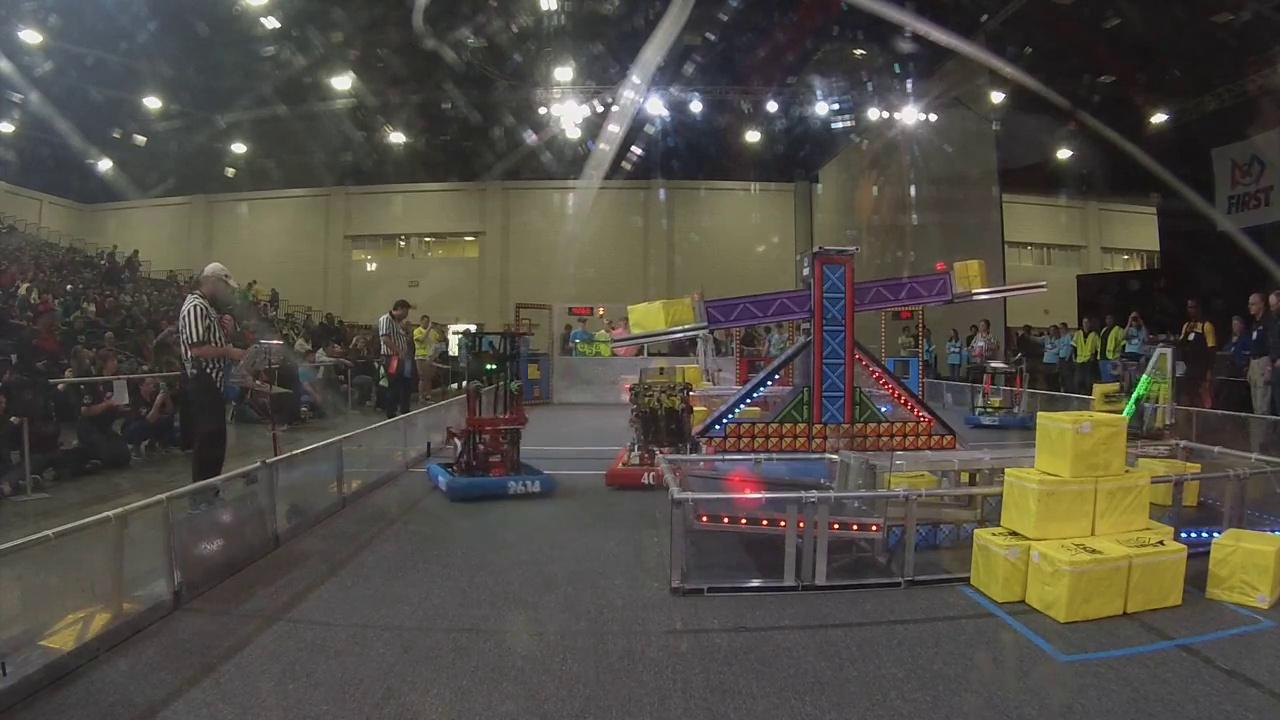robot: (423, 325, 556, 506), (600, 370, 727, 494), (961, 360, 1037, 432)
